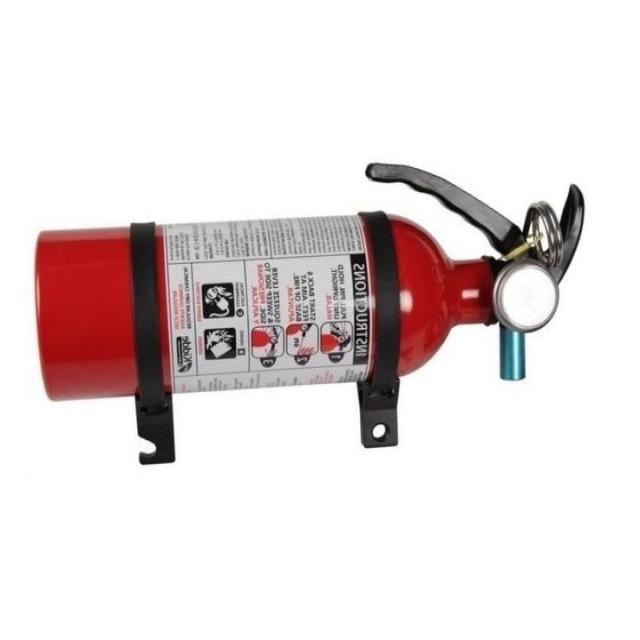fire_extinguisher: (29, 155, 592, 406)
